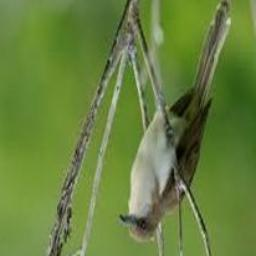Cuckoo: (119, 0, 232, 241)
